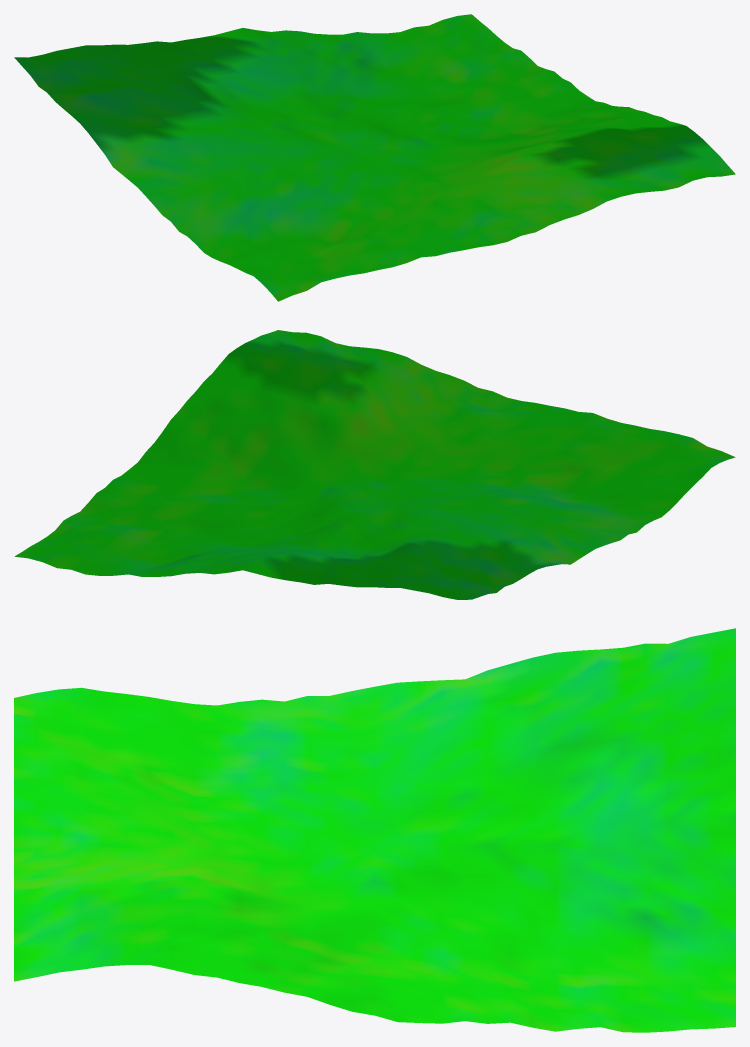
3 views of the same model, one above another, from view 1: azimuth 30°, elevation 25°; view 2: azimuth 150°, elevation 25°; view 3: azimuth 270°, elevation 25° (orthographic). The views are drawn at different scales.
Visible parts, largest first — view 1: Terrain; view 2: Terrain; view 3: Terrain.
Part boxes in pixels (x1=…): Terrain: x1=14, y1=14, x2=735, y2=301; Terrain: x1=14, y1=330, x2=735, y2=599; Terrain: x1=14, y1=628, x2=735, y2=1032.
Bounding box in the file's own units: 64 × 9.72 × 64.
